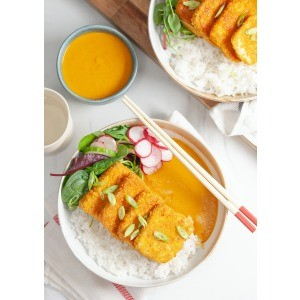tofu_brain food: (83, 161, 183, 263), (170, 5, 258, 58)
